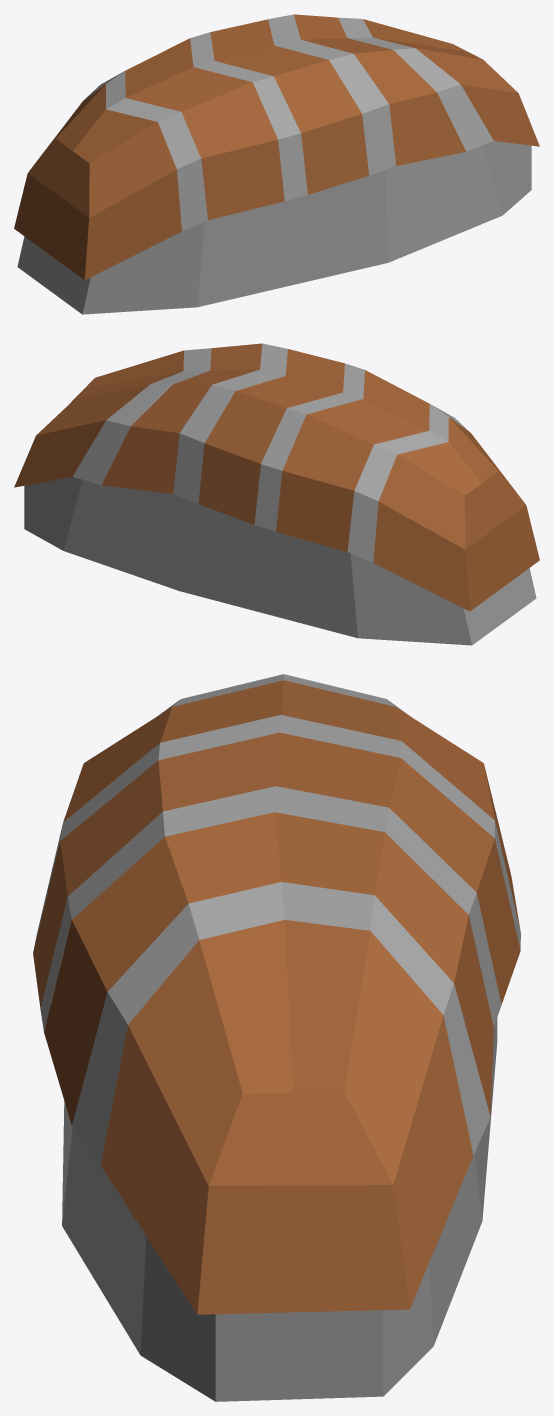
File: sushi-nigiri.glb
The picture shows the model from 3 angles, top to bottom: view 1: azimuth 30°, elevation 25°; view 2: azimuth 150°, elevation 25°; view 3: azimuth 270°, elevation 25°; orthographic projection. The views are drawn at different scales.
Visible parts, largest first — view 1: Sushi_Nigiri1; view 2: Sushi_Nigiri1; view 3: Sushi_Nigiri1.
Part boxes in pixels (left/top/right/bottom): Sushi_Nigiri1: left=14, top=14, right=539, bottom=314; Sushi_Nigiri1: left=14, top=343, right=539, bottom=645; Sushi_Nigiri1: left=33, top=674, right=520, bottom=1401.
Bounding box in the file's own units: 0.5976 × 0.2344 × 0.2716.
